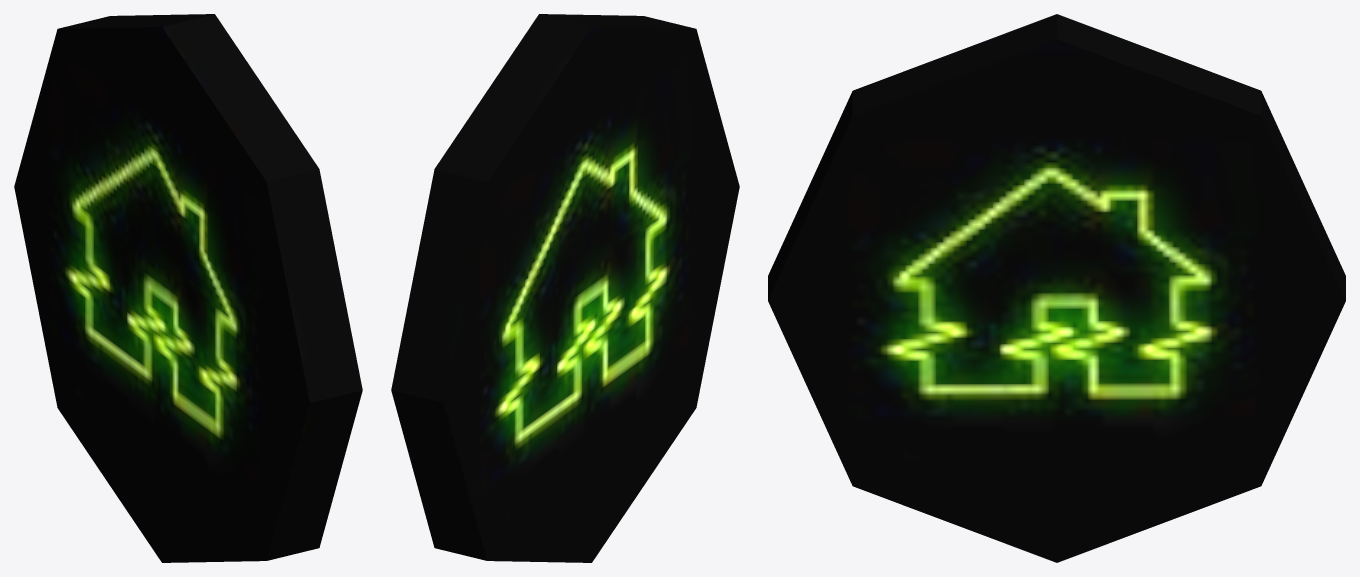
The model's file is irl-house.gltf.
3 views of the same model, side by side, from view 1: azimuth 30°, elevation 25°; view 2: azimuth 150°, elevation 25°; view 3: azimuth 270°, elevation 25° (orthographic). The views are drawn at different scales.
Parts seen in each view (by area): view 1: IRL.House; view 2: IRL.House; view 3: IRL.House.
Boxes of the visible parts, left/top/right/bottom form: IRL.House: left=14, top=14, right=362, bottom=562; IRL.House: left=391, top=14, right=739, bottom=562; IRL.House: left=768, top=14, right=1345, bottom=562.
Bounding box in the file's own units: 0.0236 × 0.2293 × 0.2293.
Materials: 1 (1 with a texture image).
